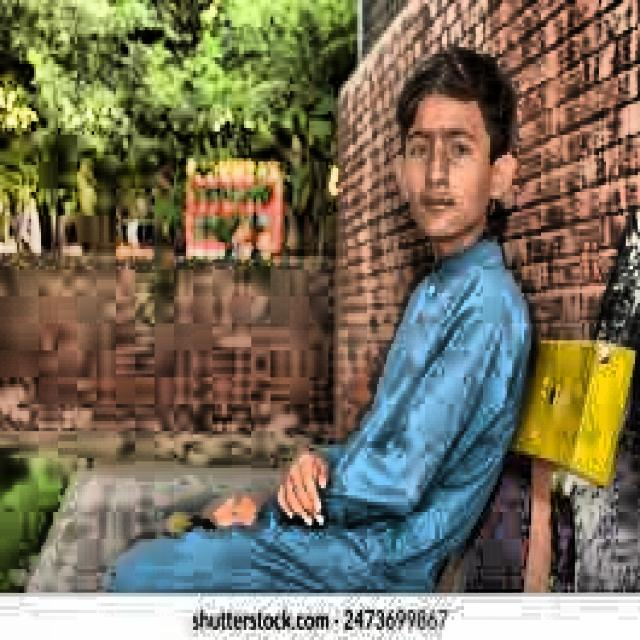Human: (104, 34, 547, 626)
